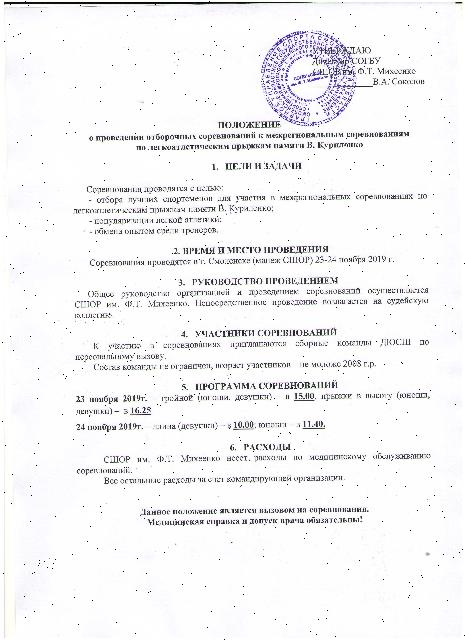stamp: (261, 34, 355, 126)
